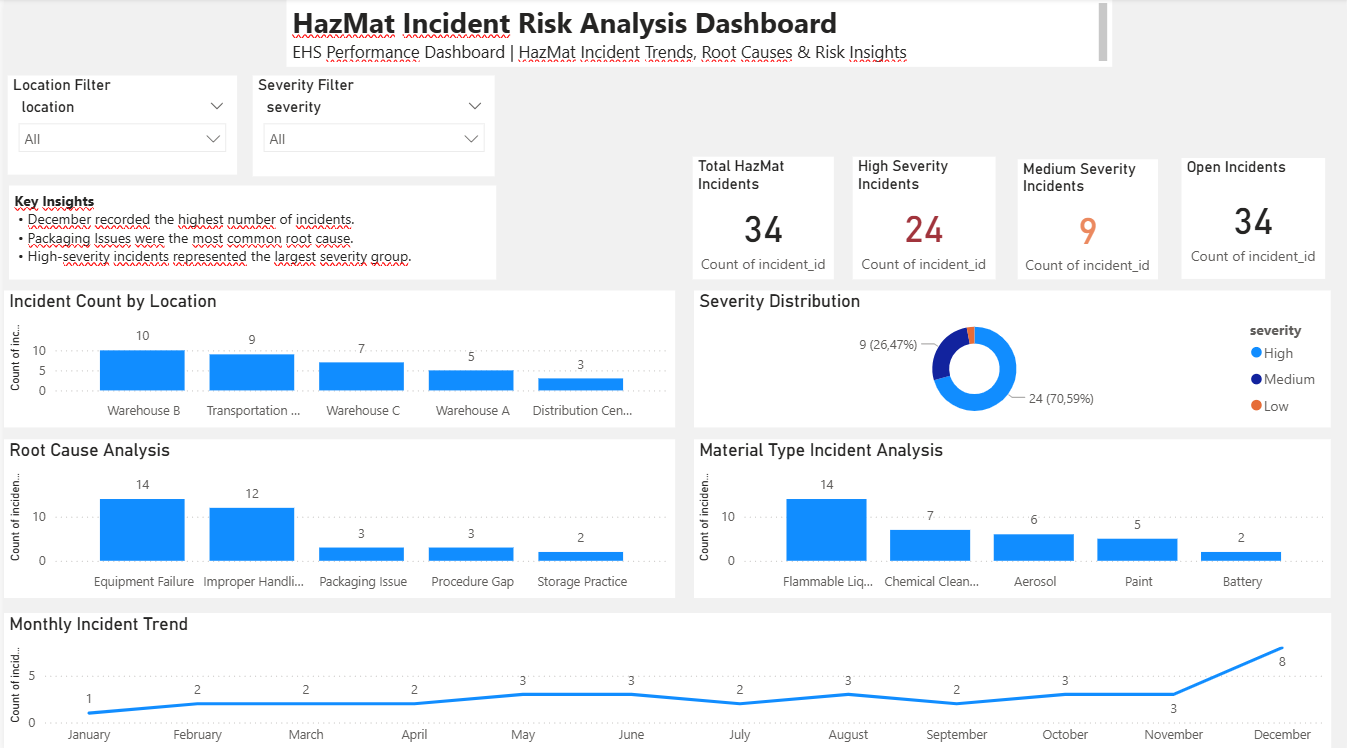

The page's visual inventory and layout, read from the dashboard file:
{"tool":"powerbi","page":{"name":"Page 1","canvas":[1280,720],"ordinal":0},"visuals":[{"type":"card","title":"Total HazMat Incidents","fields":{"Values":["CountNonNull(incidents.incident_id)"]},"box":[506.6,196.5,170.2,68.6],"z":0},{"type":"card","title":"High Severity Incidents","fields":{"Values":["CountNonNull(incidents.incident_id)"]},"box":[694.6,197.9,181.1,71.4],"z":1000},{"type":"card","title":"Medium Severity Incidents","fields":{"Values":["CountNonNull(incidents.incident_id)"]},"box":[893.6,197.9,177,71.4],"z":2000},{"type":"card","title":"Open Incidents","fields":{"Values":["CountNonNull(incidents.incident_id)"]},"box":[1092.6,197.9,171.5,71.4],"z":3000},{"type":"clusteredColumnChart","title":"Incident Count by Location","fields":{"Category":["incidents.location"],"Y":["CountNonNull(incidents.incident_id)"]},"box":[0,278.6,639.5,130.4],"z":4000},{"type":"clusteredColumnChart","title":"Root Cause Analysis","fields":{"Category":["incidents.root_cause"],"Y":["CountNonNull(incidents.incident_id)"]},"box":[0,419.9,639.5,150.9],"z":5000},{"type":"donutChart","title":"Severity Distribution","fields":{"Category":["incidents.severity"],"Y":["CountNonNull(incidents.incident_id)"]},"box":[657.3,278.6,606.5,130.4],"z":6000},{"type":"clusteredColumnChart","title":"Material Type Incident Analysis","fields":{"Category":["incidents.material_type"],"Y":["CountNonNull(incidents.incident_id)"]},"box":[657.3,419.9,606.5,150.9],"z":7000},{"type":"lineChart","title":"Monthly Incident Trend","fields":{"Category":["incidents.incident_date.Variation.Date Hierarchy.Month"],"Y":["CountNonNull(incidents.incident_id)"]},"box":[0,585.9,1263.8,134.5],"z":8000},{"type":"textbox","box":[269,0,786.3,90.6],"z":9000},{"type":"slicer","title":"Location Filter","fields":{"Values":["incidents.location"]},"box":[11,102.9,218.2,94.7],"z":10000},{"type":"slicer","title":"Severity Filter","fields":{"Values":["incidents.severity"]},"box":[244.3,102.9,230.5,96.1],"z":11000}]}

Visuals, with their boxes in screenshot pixels (x1, y1, x2, y2), scaled from the page's 1280x720 canvas onto the 1347x748 screenshot:
"Total HazMat Incidents" card: BBox(533, 204, 712, 275)
"High Severity Incidents" card: BBox(731, 206, 922, 280)
"Medium Severity Incidents" card: BBox(940, 206, 1127, 280)
"Open Incidents" card: BBox(1150, 206, 1330, 280)
"Incident Count by Location" clusteredColumnChart: BBox(0, 289, 673, 425)
"Root Cause Analysis" clusteredColumnChart: BBox(0, 436, 673, 593)
"Severity Distribution" donutChart: BBox(692, 289, 1330, 425)
"Material Type Incident Analysis" clusteredColumnChart: BBox(692, 436, 1330, 593)
"Monthly Incident Trend" lineChart: BBox(0, 609, 1330, 747)
textbox: BBox(283, 0, 1111, 94)
"Location Filter" slicer: BBox(12, 107, 241, 205)
"Severity Filter" slicer: BBox(257, 107, 500, 207)
